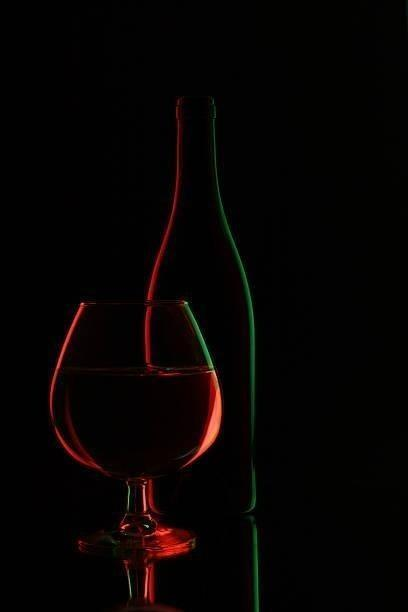bottle-glass: (143, 89, 258, 517)
glass-wine: (48, 296, 223, 556)
